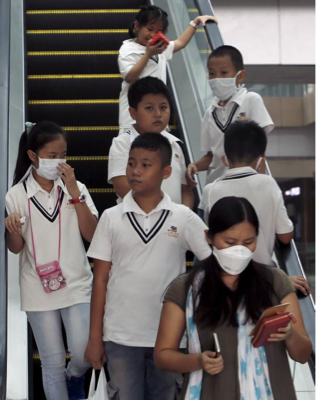with_mask: (213, 234, 259, 277), (207, 64, 239, 99), (36, 149, 69, 181)
without_mask: (125, 156, 159, 194), (137, 100, 172, 135), (136, 25, 166, 46)
